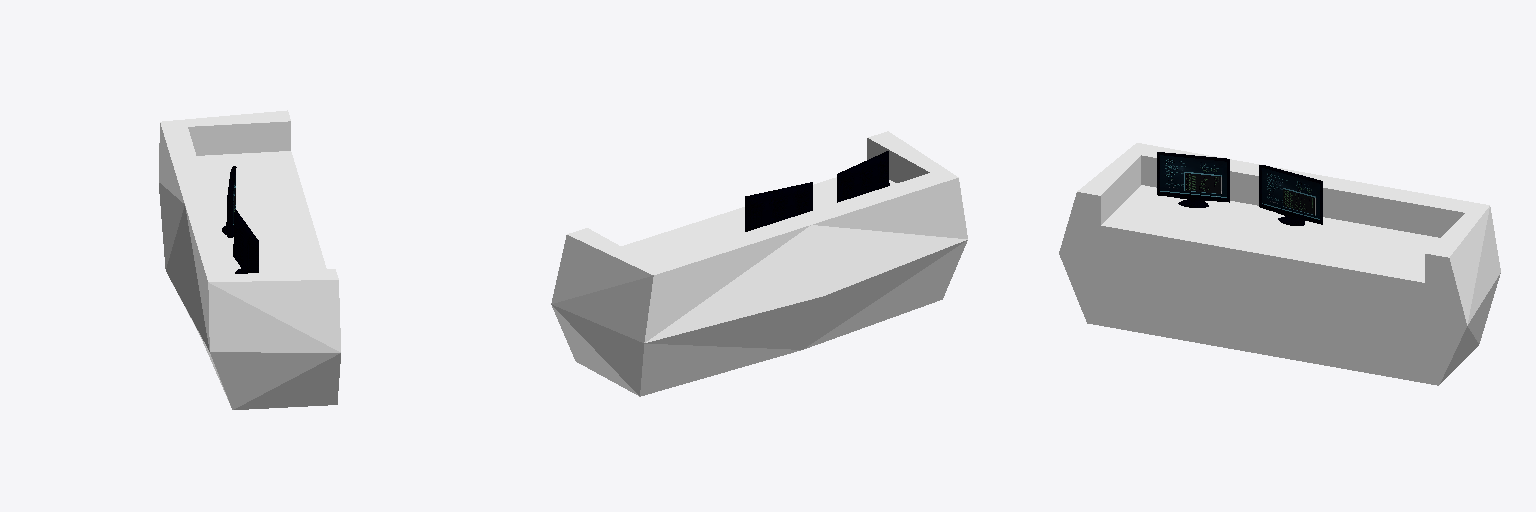
3 views of the same model, side by side, from view 1: azimuth 30°, elevation 25°; view 2: azimuth 150°, elevation 25°; view 3: azimuth 270°, elevation 25° (orthographic).
Visible parts, largest first — view 1: escritorio:COUNTER_RECEPCION, escritorio:COUNTER_RECEPCIONMONITOR032, escritorio:COUNTER_RECEPCIONMONITOR01; view 2: escritorio:COUNTER_RECEPCION, escritorio:COUNTER_RECEPCIONMONITOR01, escritorio:COUNTER_RECEPCIONMONITOR032; view 3: escritorio:COUNTER_RECEPCION, escritorio:COUNTER_RECEPCIONMONITOR032, escritorio:COUNTER_RECEPCIONMONITOR01.
Part boxes in pixels (left/top/right/bottom): escritorio:COUNTER_RECEPCION: left=159, top=110, right=340, bottom=409; escritorio:COUNTER_RECEPCIONMONITOR032: left=233, top=210, right=258, bottom=273; escritorio:COUNTER_RECEPCIONMONITOR01: left=222, top=166, right=236, bottom=237; escritorio:COUNTER_RECEPCION: left=551, top=131, right=967, bottom=396; escritorio:COUNTER_RECEPCIONMONITOR01: left=745, top=182, right=812, bottom=231; escritorio:COUNTER_RECEPCIONMONITOR032: left=837, top=151, right=889, bottom=202; escritorio:COUNTER_RECEPCION: left=1059, top=143, right=1500, bottom=385; escritorio:COUNTER_RECEPCIONMONITOR032: left=1157, top=152, right=1229, bottom=207; escritorio:COUNTER_RECEPCIONMONITOR01: left=1259, top=165, right=1322, bottom=225.
Size of the model in its own units: 4.2 by 2.44 by 6.53.
Materials: 3 (3 with a texture image).